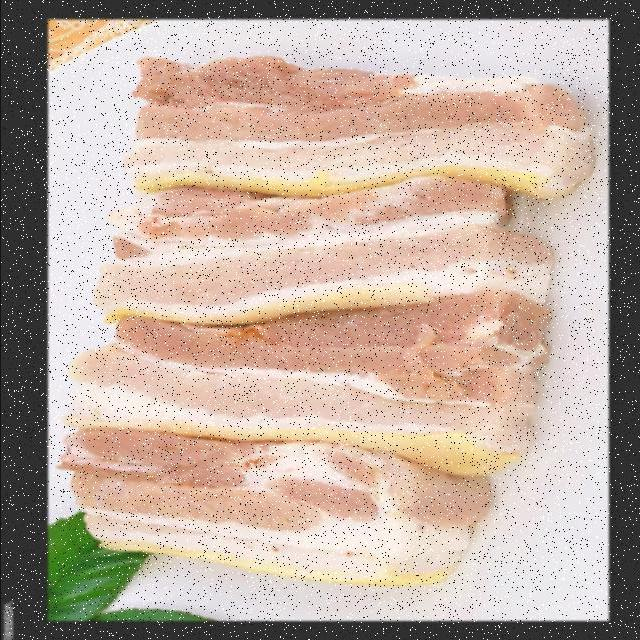pork: (54, 282, 586, 438), (75, 171, 546, 333), (107, 49, 608, 191), (67, 431, 495, 580)
